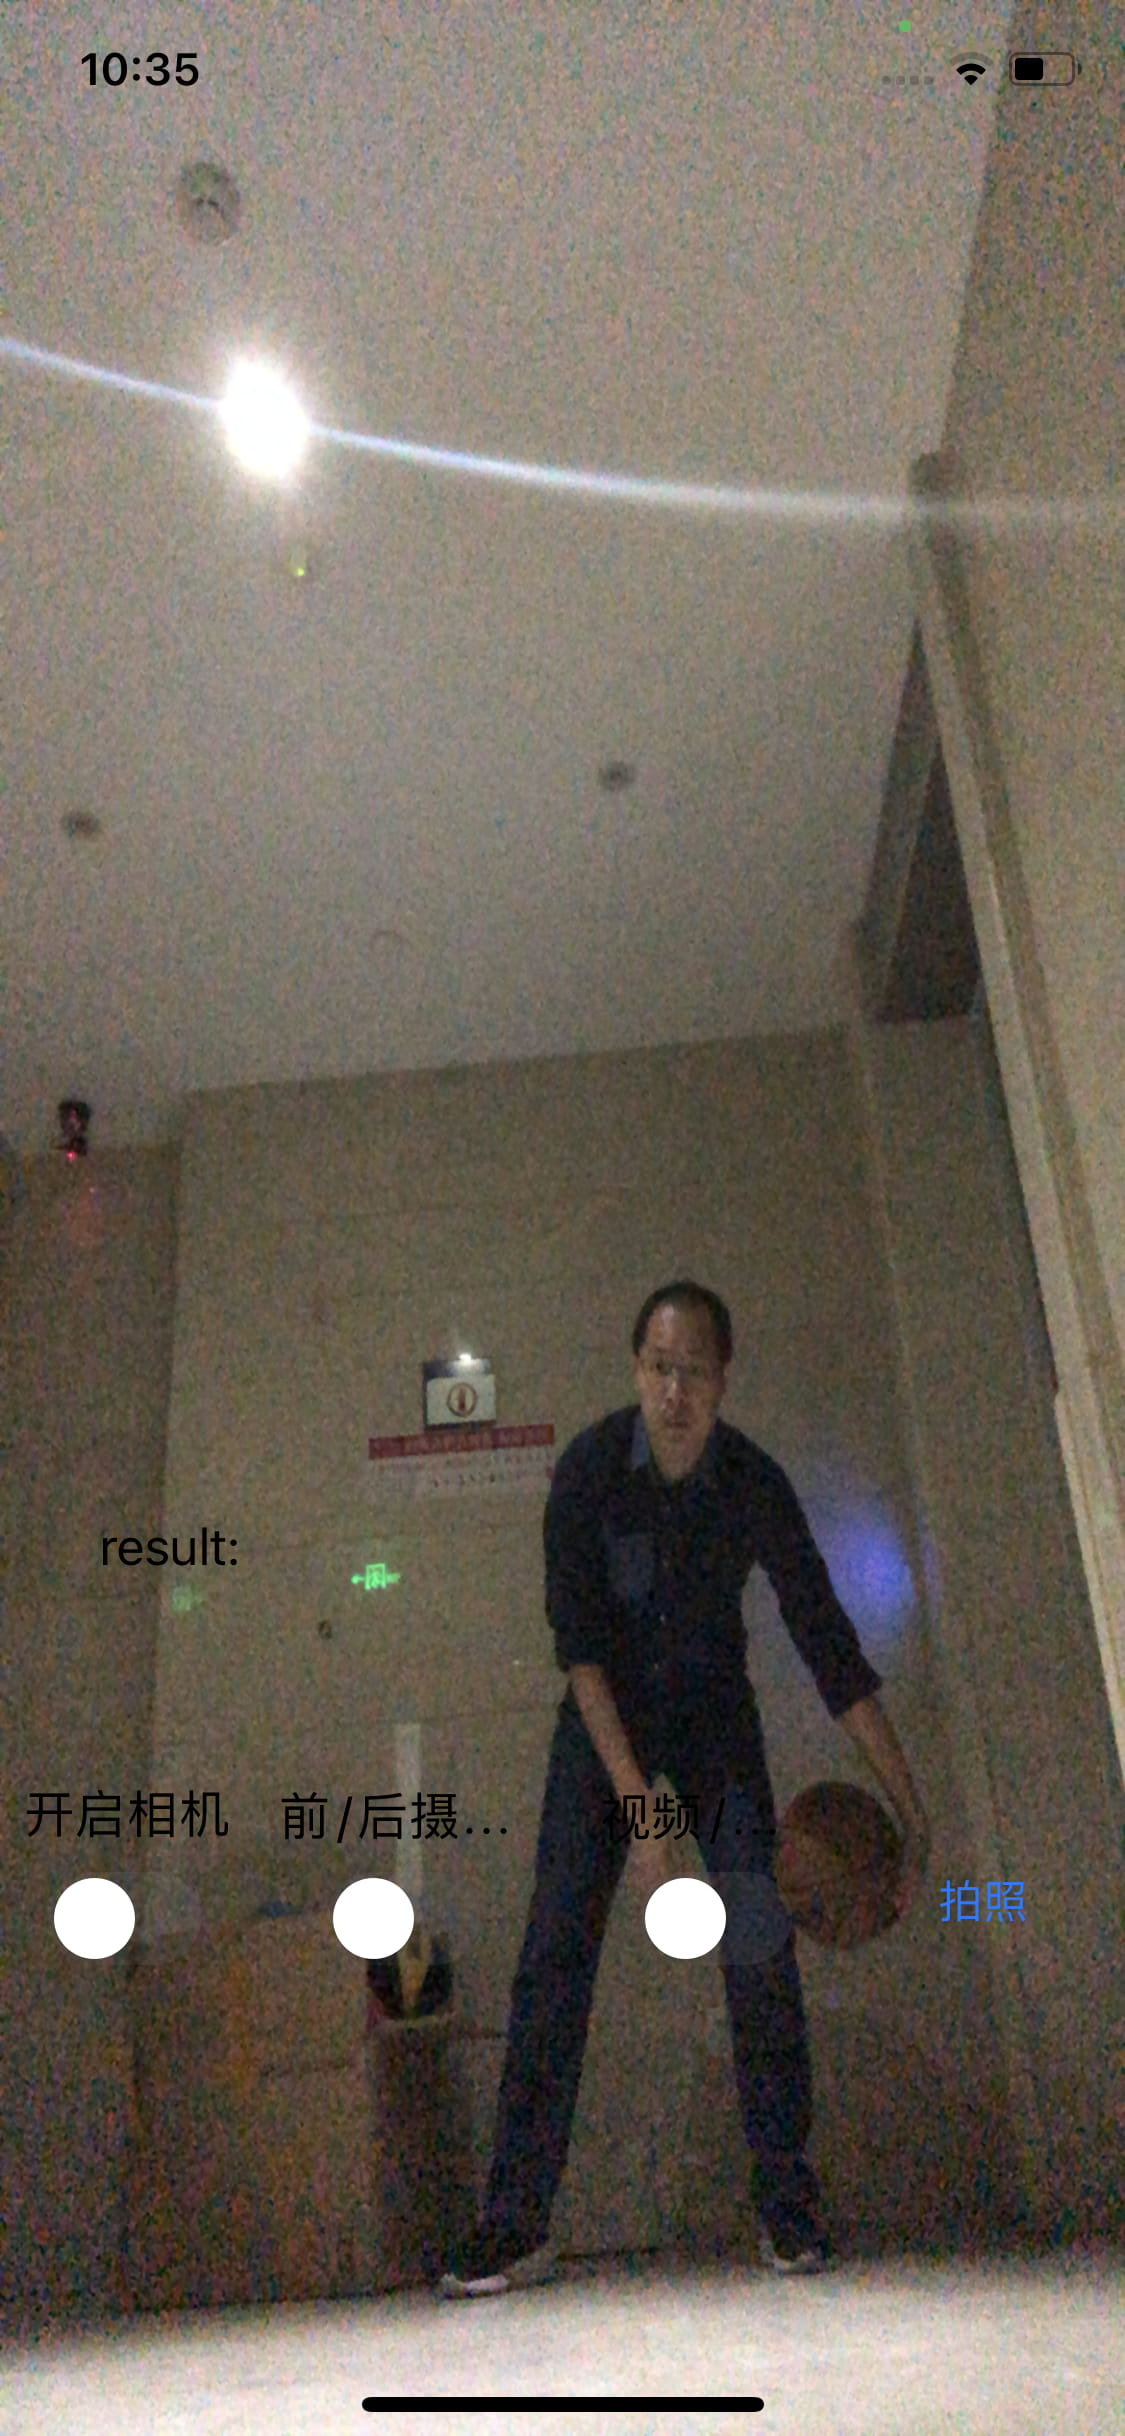ball: (772, 1777, 906, 1947)
